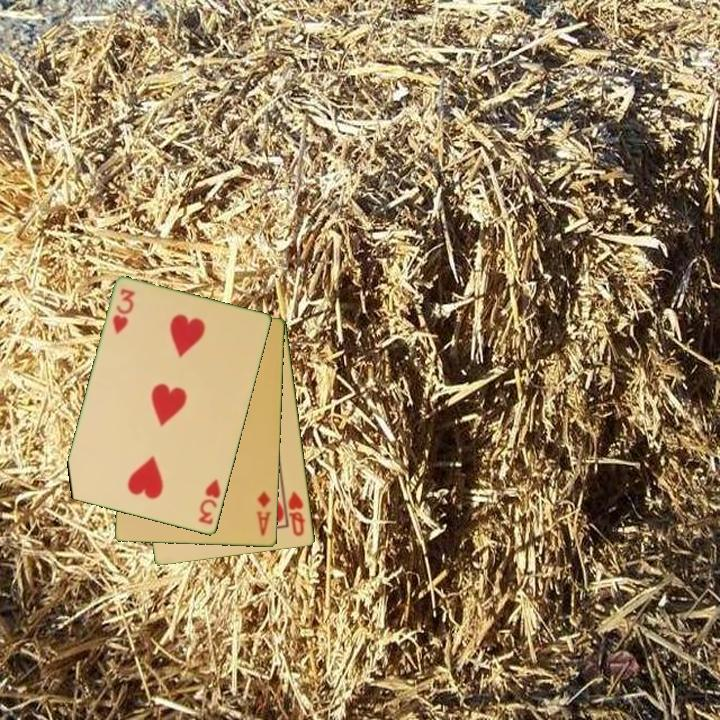3h: (195, 476, 224, 528), (109, 285, 138, 337)
Ad: (252, 488, 274, 539)
Qh: (285, 488, 308, 539)
